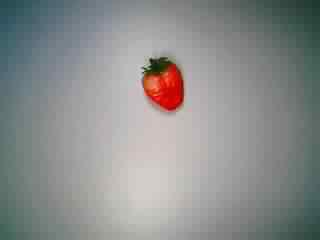strawberry: (130, 49, 198, 113)
